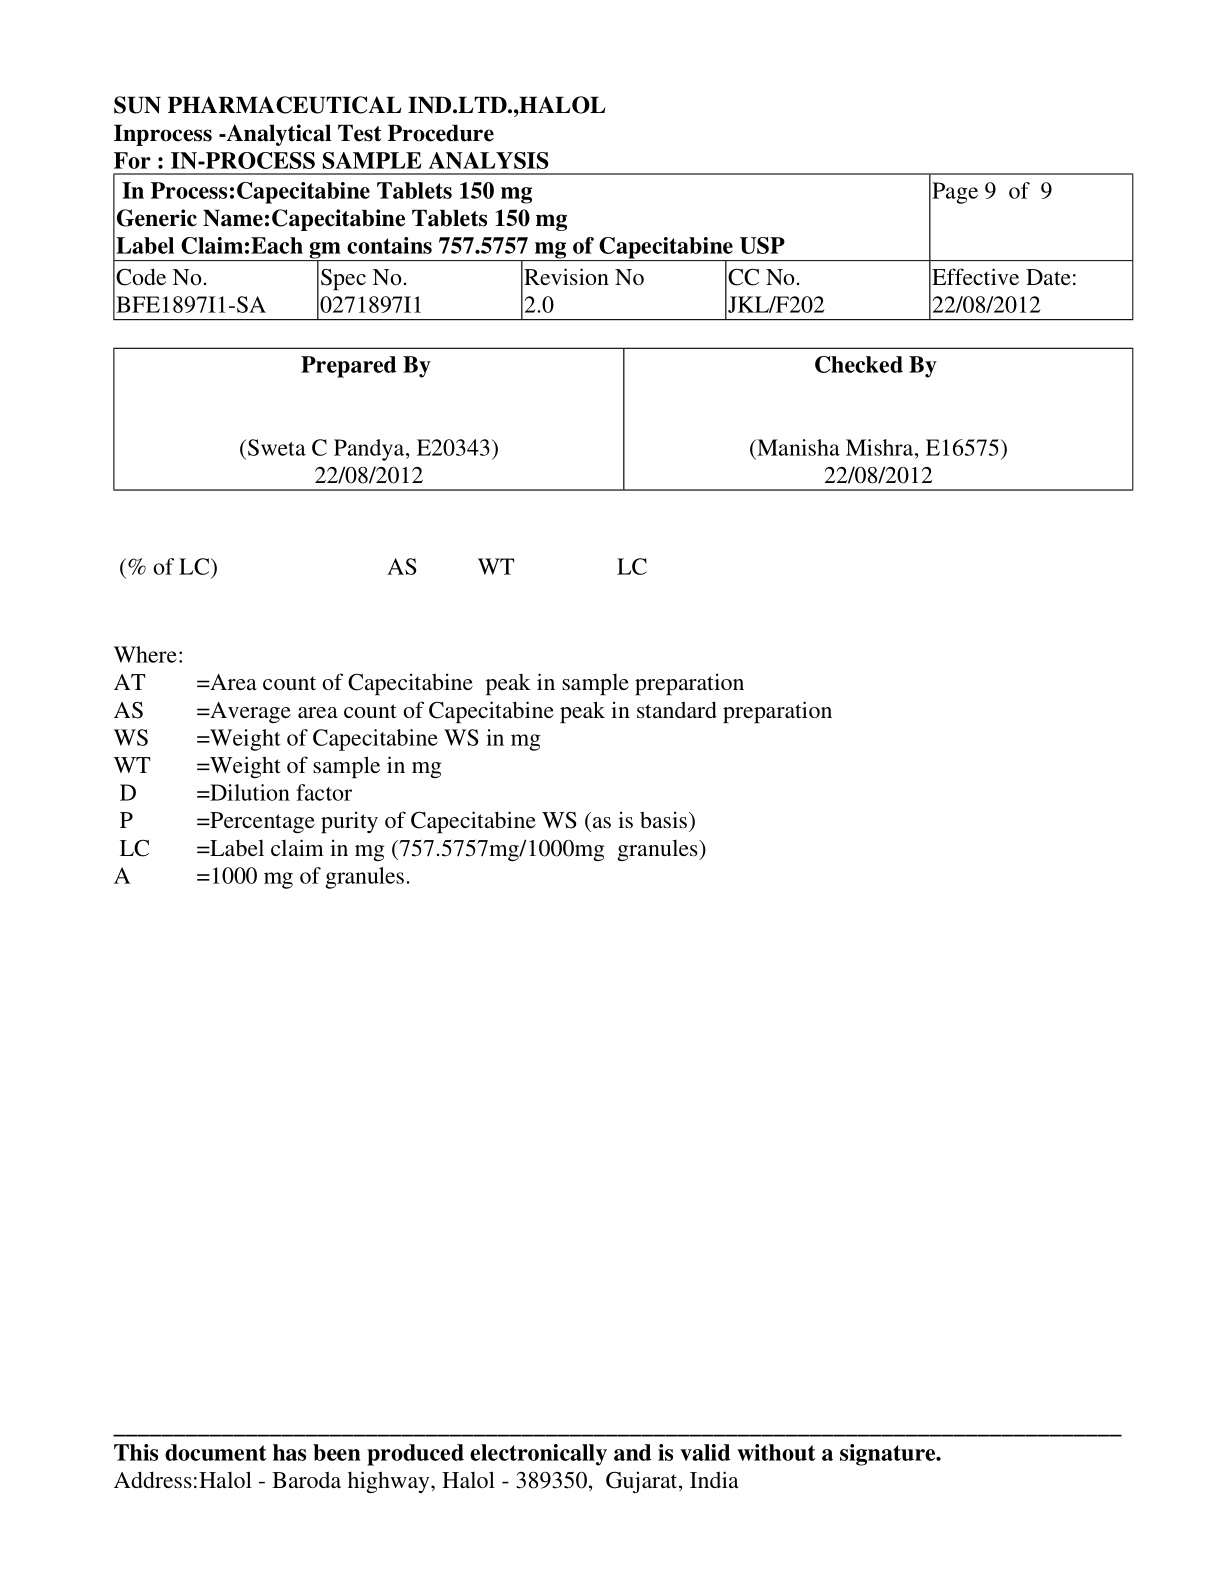full_lined: (111, 347, 1135, 492)
merged_cells: (111, 172, 1135, 321)
